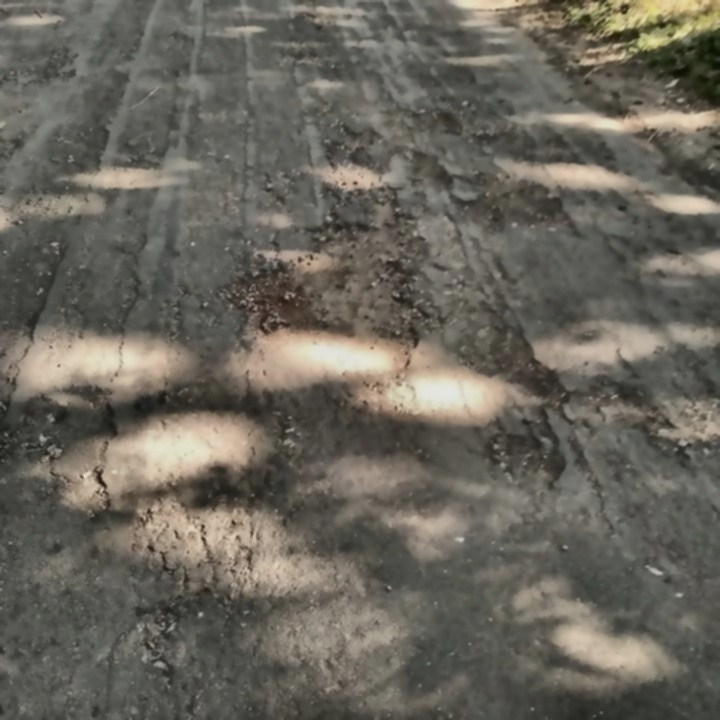pothole: (214, 205, 424, 398)
